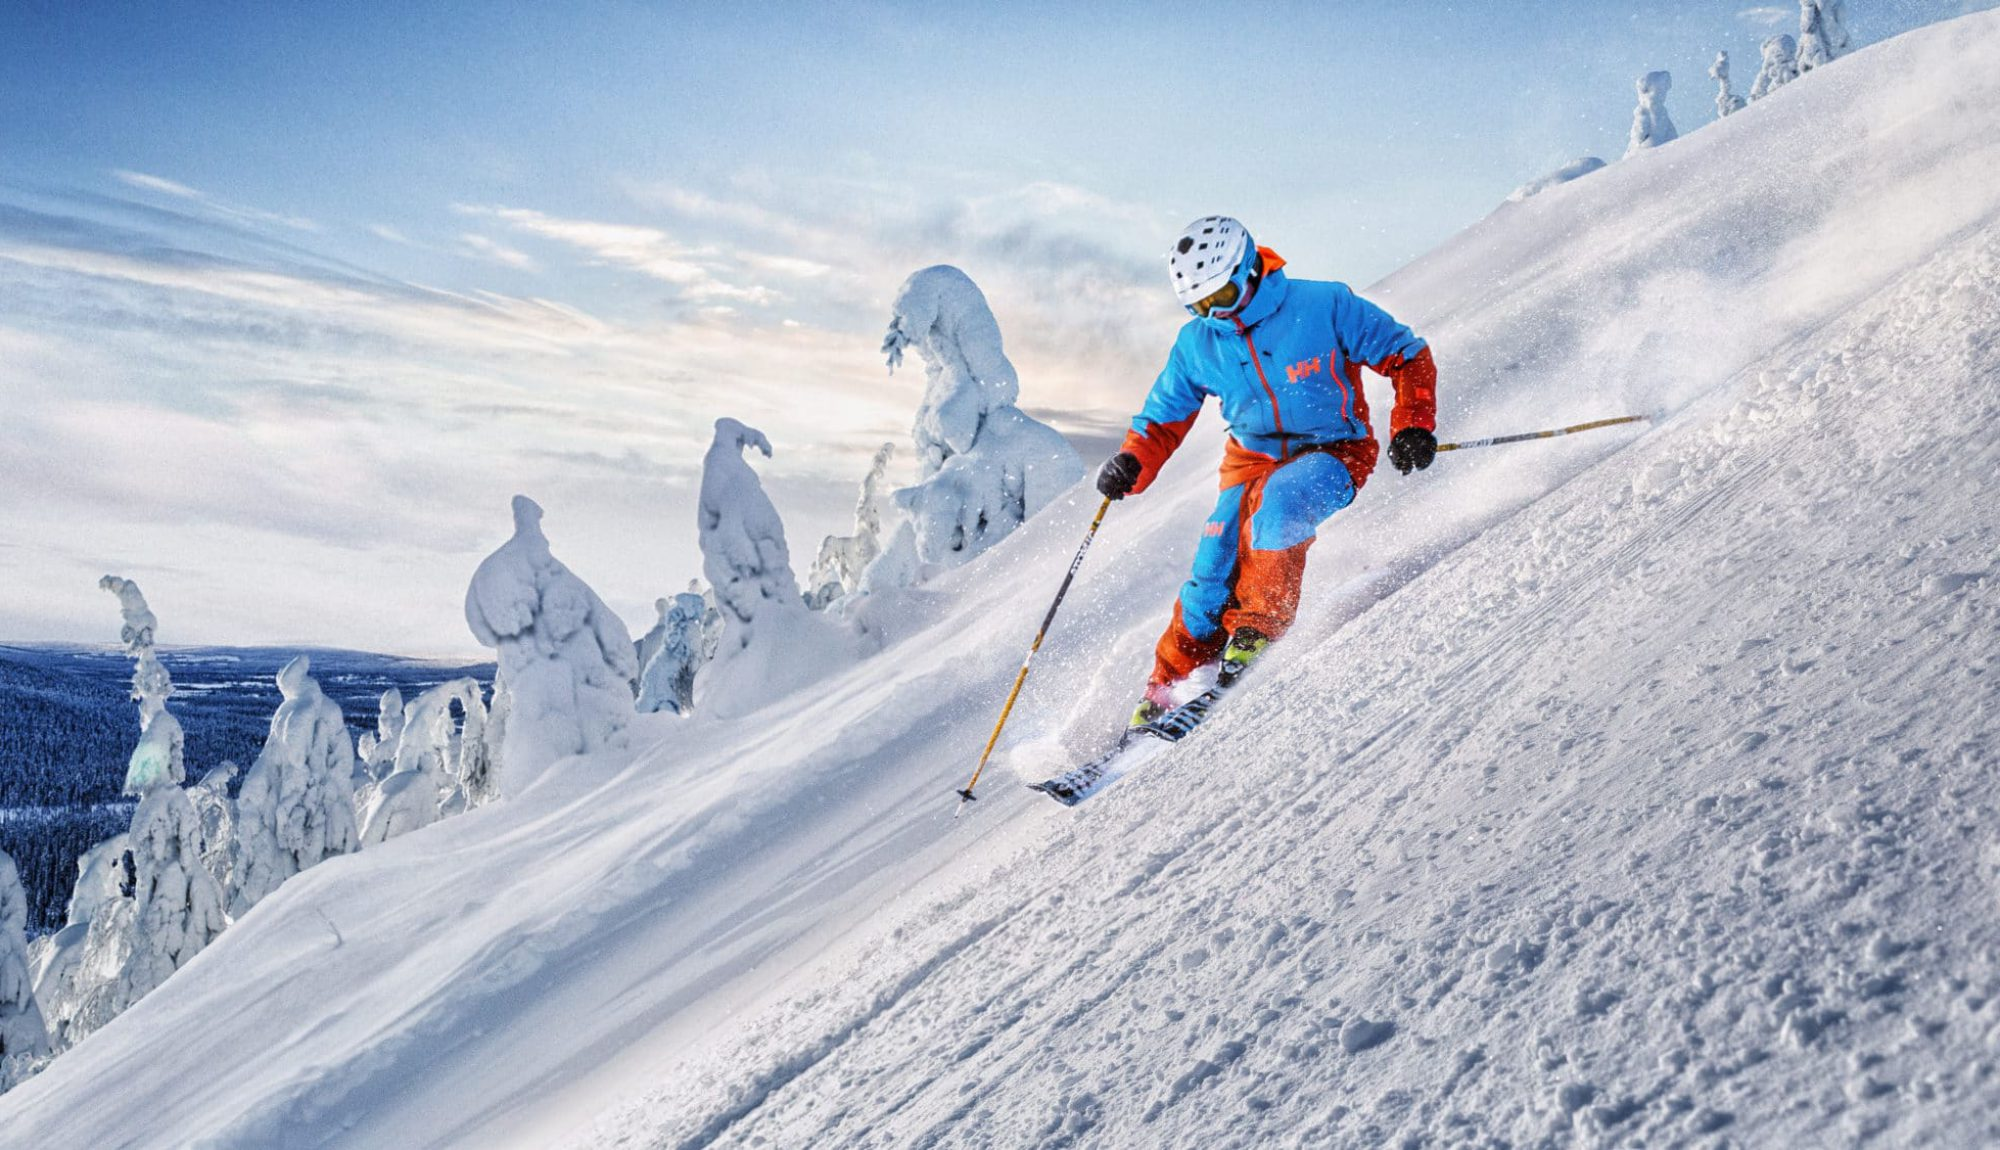skier: (962, 207, 1471, 848)
